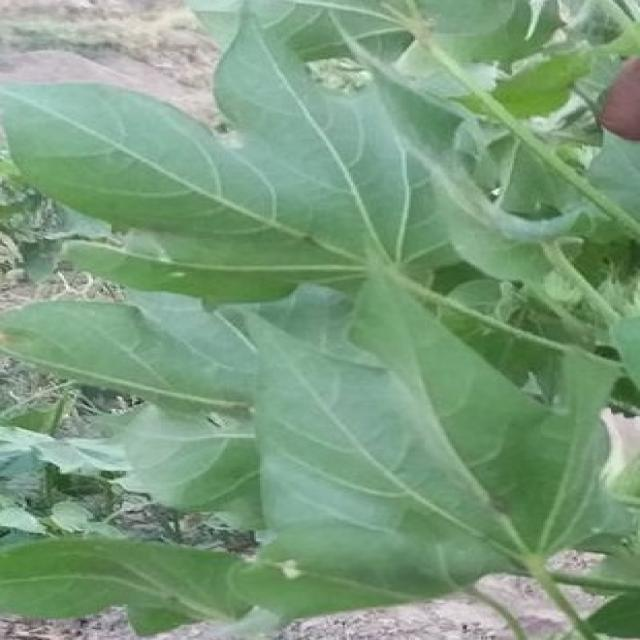Healthy Leaf: (58, 30, 640, 632)
